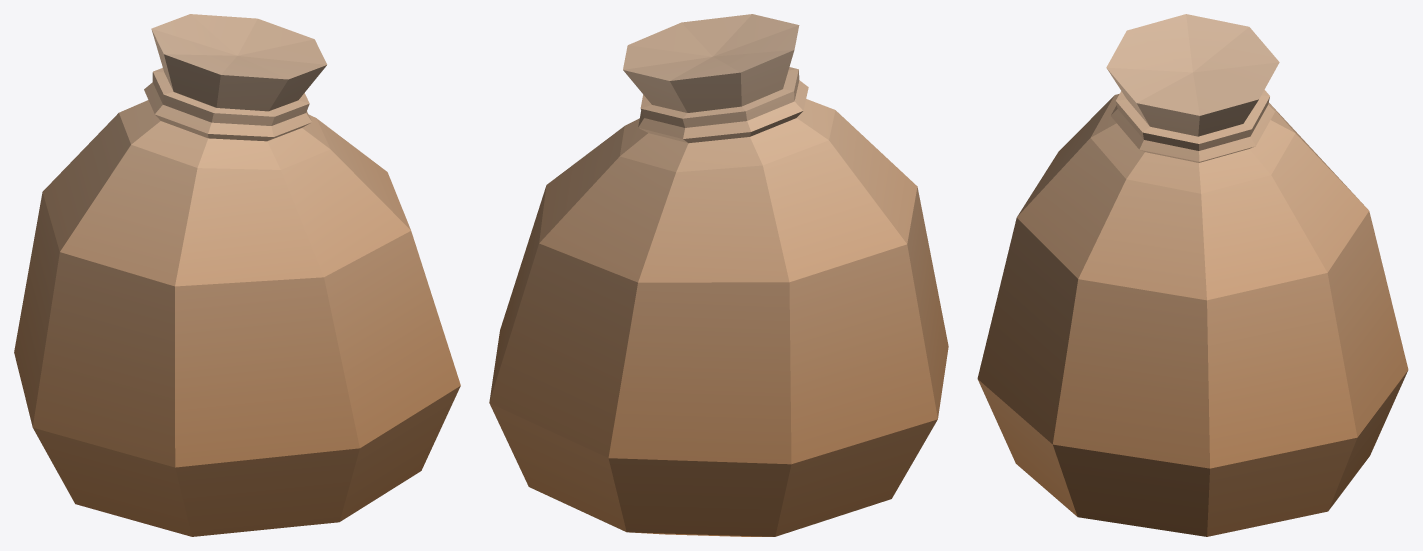
File: grain bag small.fbx
The picture shows the model from 3 angles, left to right: view 1: azimuth 30°, elevation 25°; view 2: azimuth 150°, elevation 25°; view 3: azimuth 270°, elevation 25°; orthographic projection. The views are drawn at different scales.
Parts seen in each view (by area): view 1: grain_bag_small; view 2: grain_bag_small; view 3: grain_bag_small.
Boxes of the visible parts, left/top/right/bottom form: grain_bag_small: left=14, top=14, right=460, bottom=536; grain_bag_small: left=489, top=14, right=948, bottom=536; grain_bag_small: left=977, top=14, right=1408, bottom=536.
Bounding box in the file's own units: 142 × 150 × 133.
Materials: 1 (1 with a texture image).
